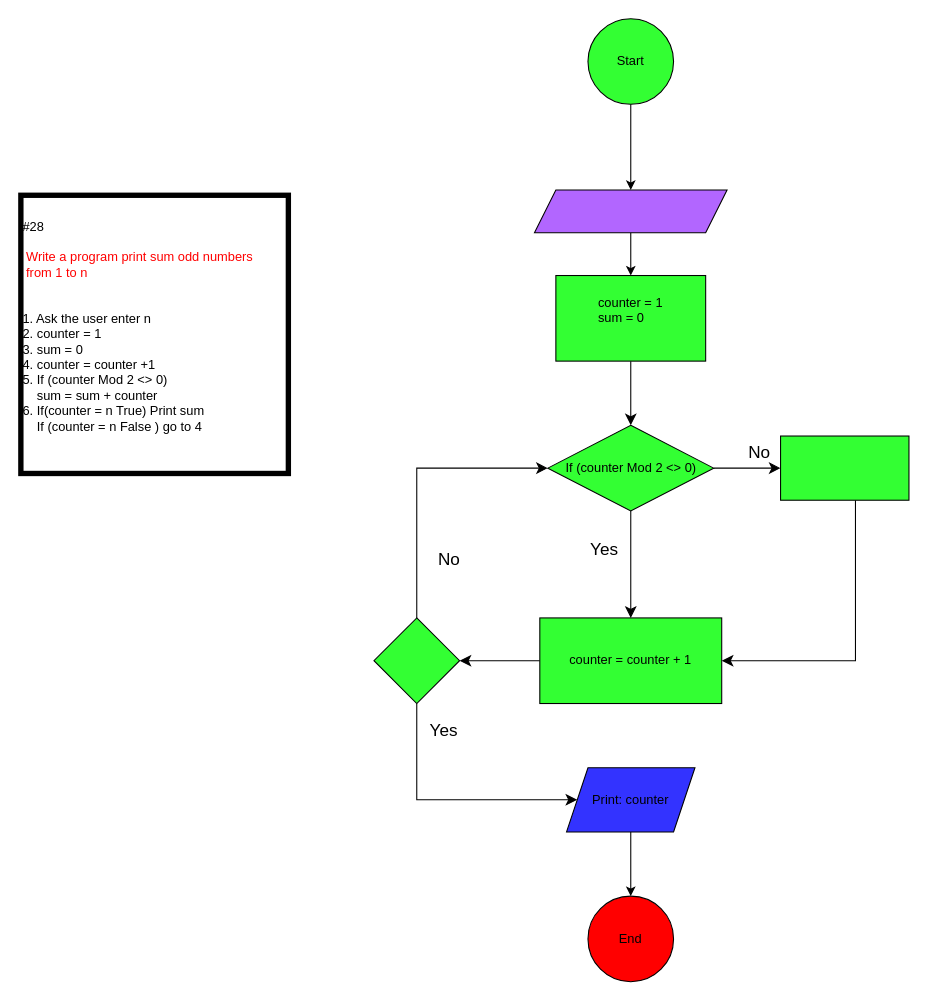
This 928x1000 diagram has some shape labels left out. The centre of each missing label's shape, as x and y in pixels:
If (counter = n) True: [416,660]
Read: n: [630,211]
sum = sum + counter: [844,467]
